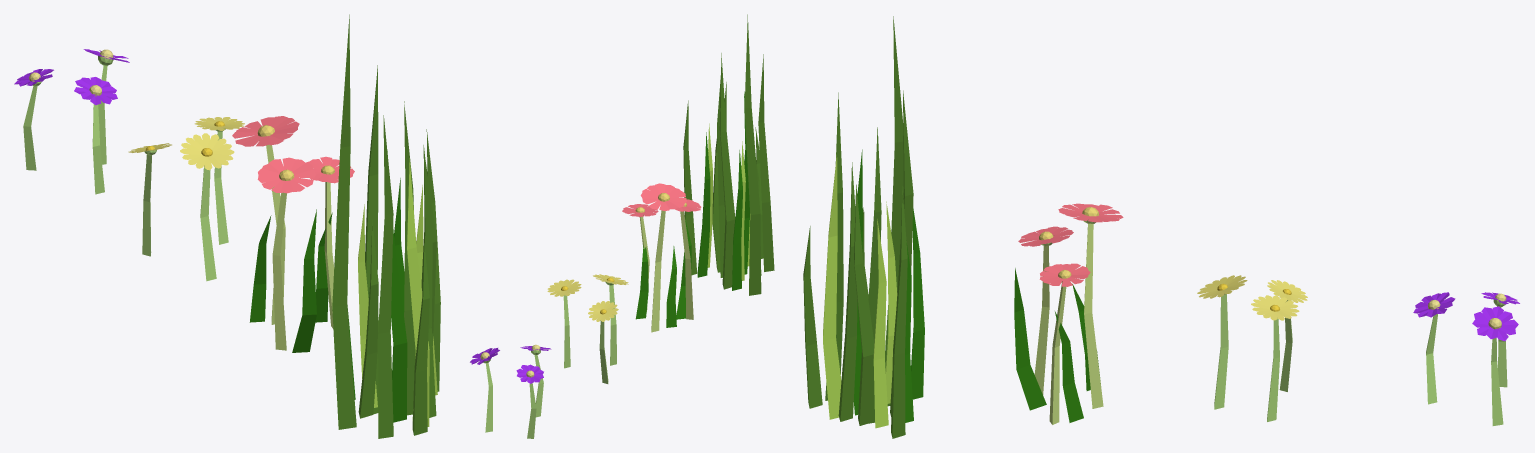
File: flowerGrass.fbx
The picture shows the model from 3 angles, left to right: view 1: azimuth 30°, elevation 25°; view 2: azimuth 150°, elevation 25°; view 3: azimuth 270°, elevation 25°; orthographic projection. The views are drawn at different scales.
Visible parts, largest first — view 1: Cylinder.004, Cylinder, Cylinder.002, Cylinder.003; view 2: Cylinder.004, Cylinder, Cylinder.002, Cylinder.003; view 3: Cylinder.004, Cylinder, Cylinder.002, Cylinder.003.
Part boxes in pixels (box(x1,y1,x2,y2)): Cylinder.004: box(332, 14, 440, 438); Cylinder: box(232, 116, 354, 352); Cylinder.002: box(128, 117, 244, 281); Cylinder.003: box(14, 49, 129, 194); Cylinder.004: box(683, 14, 774, 295); Cylinder: box(622, 183, 701, 332); Cylinder.002: box(547, 274, 628, 383); Cylinder.003: box(470, 344, 551, 438); Cylinder.004: box(803, 16, 924, 438); Cylinder: box(1014, 203, 1123, 424); Cylinder.002: box(1197, 275, 1307, 421); Cylinder.003: box(1413, 292, 1519, 425).
Bounding box in the file's own units: 16.54 × 58.87 × 97.47.
